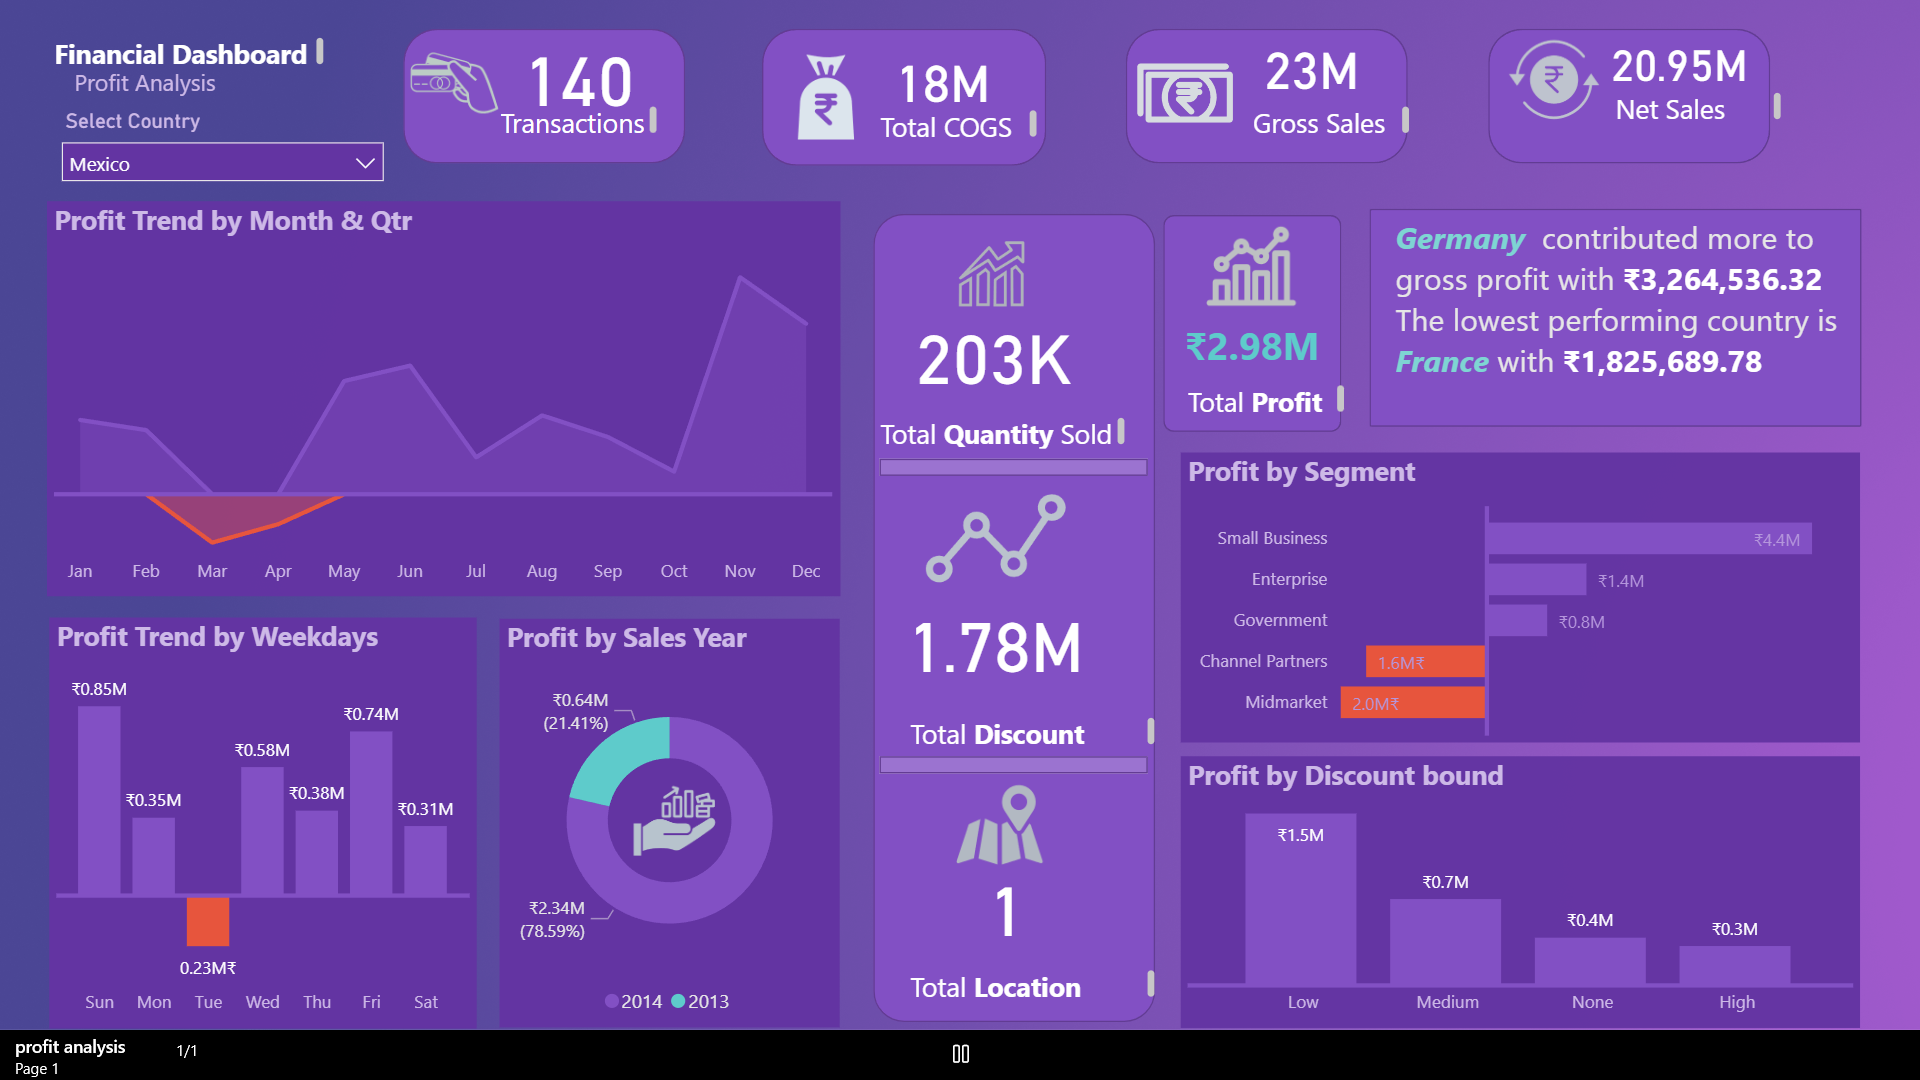

What the dashboard file says about the page in this screenshot:
{"tool":"powerbi","page":{"name":"Page 1","canvas":[1280,720],"ordinal":0},"visuals":[{"type":"shape","box":[249.7,20.6,197.6,94.7],"z":0},{"type":"card","fields":{"Values":["All Measures.# Transaction"]},"box":[297.8,11,149.6,81],"z":1000},{"type":"shape","box":[500.9,20.6,199,96.1],"z":2000},{"type":"shape","box":[756.1,20.6,197.6,94.7],"z":3000},{"type":"shape","box":[1010,20.6,197.6,94.7],"z":4000},{"type":"image","box":[491.3,31.6,108.4,72.7],"z":5000},{"type":"image","box":[247,23.3,76.8,68.6],"z":6000},{"type":"image","box":[1001.7,20.6,107,71.4],"z":7000},{"type":"image","box":[756.1,31.6,83.7,67.2],"z":8000},{"type":"textbox","box":[312.9,68.6,120.8,32.9],"z":9000},{"type":"textbox","box":[830.2,20.6,120.8,32.9],"z":10000},{"type":"card","fields":{"Values":["All Measures.Gross Sales"]},"box":[812.4,0,148.2,91.9],"z":11000},{"type":"textbox","box":[839.8,68.6,120.8,32.9],"z":12000},{"type":"card","fields":{"Values":["All Measures.COGS"]},"box":[546.1,0,161.9,111.1],"z":13000},{"type":"textbox","box":[579.1,71.4,120.8,32.9],"z":14000},{"type":"card","fields":{"Values":["All Measures.Net Sales"]},"box":[1079.9,0,127.6,87.8],"z":15000},{"type":"textbox","box":[1093.7,59,127.6,32.9],"z":16000},{"type":"textbox","box":[0,20.6,200.3,32.9],"z":17000},{"type":"textbox","box":[13.7,41.2,200.3,32.9],"z":18000},{"type":"areaChart","title":"Profit Trend by Month & Qtr","fields":{"Category":["Calendar.Months"],"Y":["All Measures.Profit Negative","All Measures.Profit Positive"]},"box":[0,141.3,555.7,277.2],"z":19000},{"type":"columnChart","title":"Profit Trend by Weekdays","fields":{"Category":["Calendar.Weekdays"],"Y":["All Measures.Total Profit"]},"box":[1.4,433.6,299,287],"z":20000},{"type":"donutChart","title":"Profit by Sales Year","fields":{"Category":["Calendar.Year"],"Y":["All Measures.Total Profit"]},"box":[317,433.6,238.8,286.8],"z":21000},{"type":"shape","box":[579.1,149.6,197.6,566.7],"z":22000},{"type":"image","box":[627.1,161.9,70,60.4],"z":23000},{"type":"image","box":[606.5,326.6,116.6,101.5],"z":24000},{"type":"image","box":[590.1,542,153.7,71.4],"z":25000},{"type":"shape","box":[583.2,321.1,188,12.3],"z":26000},{"type":"shape","box":[583.2,529.7,188,12.3],"z":27000},{"type":"textbox","box":[579.1,286.8,182.5,32.9],"z":28000},{"type":"textbox","box":[599.7,496.7,182.5,32.9],"z":29000},{"type":"textbox","box":[599.7,673.8,182.5,32.9],"z":30000},{"type":"card","fields":{"Values":["Sum(financials.Units Sold)"]},"box":[588.7,205.8,149.6,81],"z":31000},{"type":"card","fields":{"Values":["Sum(financials.Discounts)"]},"box":[580.4,399.3,167.4,97.4],"z":32000},{"type":"card","fields":{"Values":["Count(financials.Country)"]},"box":[588.7,592.8,167.4,81],"z":33000},{"type":"shape","box":[782.2,150.9,124.9,152.3],"z":34000},{"type":"image","box":[801.4,150.9,85.1,71.4],"z":35000},{"type":"card","fields":{"Values":["All Measures.Total Profit"]},"box":[765.7,205.8,157.8,74.1],"z":36000},{"type":"textbox","box":[794.5,263.5,120.8,32.9],"z":37000},{"type":"image","box":[402.1,536.5,75.5,76.8],"z":38000},{"type":"shape","box":[926.6,146.7,344.7,152.8],"z":39000},{"type":"columnChart","title":"Profit Trend by Weekdays","fields":{"Category":["Calendar.Weekdays"],"Y":["All Measures.Total Profit"]},"box":[1.4,433,299,287],"z":40000},{"type":"barChart","title":"Profit by Segment","fields":{"Category":["financials.Segment"],"Y":["All Measures.Total Profit"]},"box":[794.5,317,476.2,203.1],"z":41000},{"type":"columnChart","title":"Profit by Discount bound","fields":{"Category":["financials.Discount Band"],"Y":["All Measures.Total Profit"]},"box":[794.5,529.7,476.2,190.7],"z":42000},{"type":"slicer","fields":{"Values":["financials.Country"]},"box":[0,71.4,245.6,61.7],"z":43000},{"type":"textbox","box":[940,146.7,337.4,182.1],"z":44000}]}

Visuals, with their boxes on the page's 1280x720 design canvas (x1, y1, x2, y2). These are canvas units, not pixel positions in the 1920x1080 screenshot, which may show the page scaled, cropped or inside an application window:
shape: box(250, 21, 447, 115)
card - All Measures.# Transaction: box(298, 11, 447, 92)
shape: box(501, 21, 700, 117)
shape: box(756, 21, 954, 115)
shape: box(1010, 21, 1208, 115)
image: box(491, 32, 600, 104)
image: box(247, 23, 324, 92)
image: box(1002, 21, 1109, 92)
image: box(756, 32, 840, 99)
textbox: box(313, 69, 434, 102)
textbox: box(830, 21, 951, 54)
card - All Measures.Gross Sales: box(812, 0, 961, 92)
textbox: box(840, 69, 961, 102)
card - All Measures.COGS: box(546, 0, 708, 111)
textbox: box(579, 71, 700, 104)
card - All Measures.Net Sales: box(1080, 0, 1208, 88)
textbox: box(1094, 59, 1221, 92)
textbox: box(0, 21, 200, 54)
textbox: box(14, 41, 214, 74)
"Profit Trend by Month & Qtr" areaChart: box(0, 141, 556, 418)
"Profit Trend by Weekdays" columnChart: box(1, 434, 300, 721)
"Profit by Sales Year" donutChart: box(317, 434, 556, 720)
shape: box(579, 150, 777, 716)
image: box(627, 162, 697, 222)
image: box(606, 327, 723, 428)
image: box(590, 542, 744, 613)
shape: box(583, 321, 771, 333)
shape: box(583, 530, 771, 542)
textbox: box(579, 287, 762, 320)
textbox: box(600, 497, 782, 530)
textbox: box(600, 674, 782, 707)
card - Sum(financials.Units Sold): box(589, 206, 738, 287)
card - Sum(financials.Discounts): box(580, 399, 748, 497)
card - Count(financials.Country): box(589, 593, 756, 674)
shape: box(782, 151, 907, 303)
image: box(801, 151, 886, 222)
card - All Measures.Total Profit: box(766, 206, 924, 280)
textbox: box(794, 264, 915, 296)
image: box(402, 536, 478, 613)
shape: box(927, 147, 1271, 300)
"Profit Trend by Weekdays" columnChart: box(1, 433, 300, 720)
"Profit by Segment" barChart: box(794, 317, 1271, 520)
"Profit by Discount bound" columnChart: box(794, 530, 1271, 720)
slicer - financials.Country: box(0, 71, 246, 133)
textbox: box(940, 147, 1277, 329)
